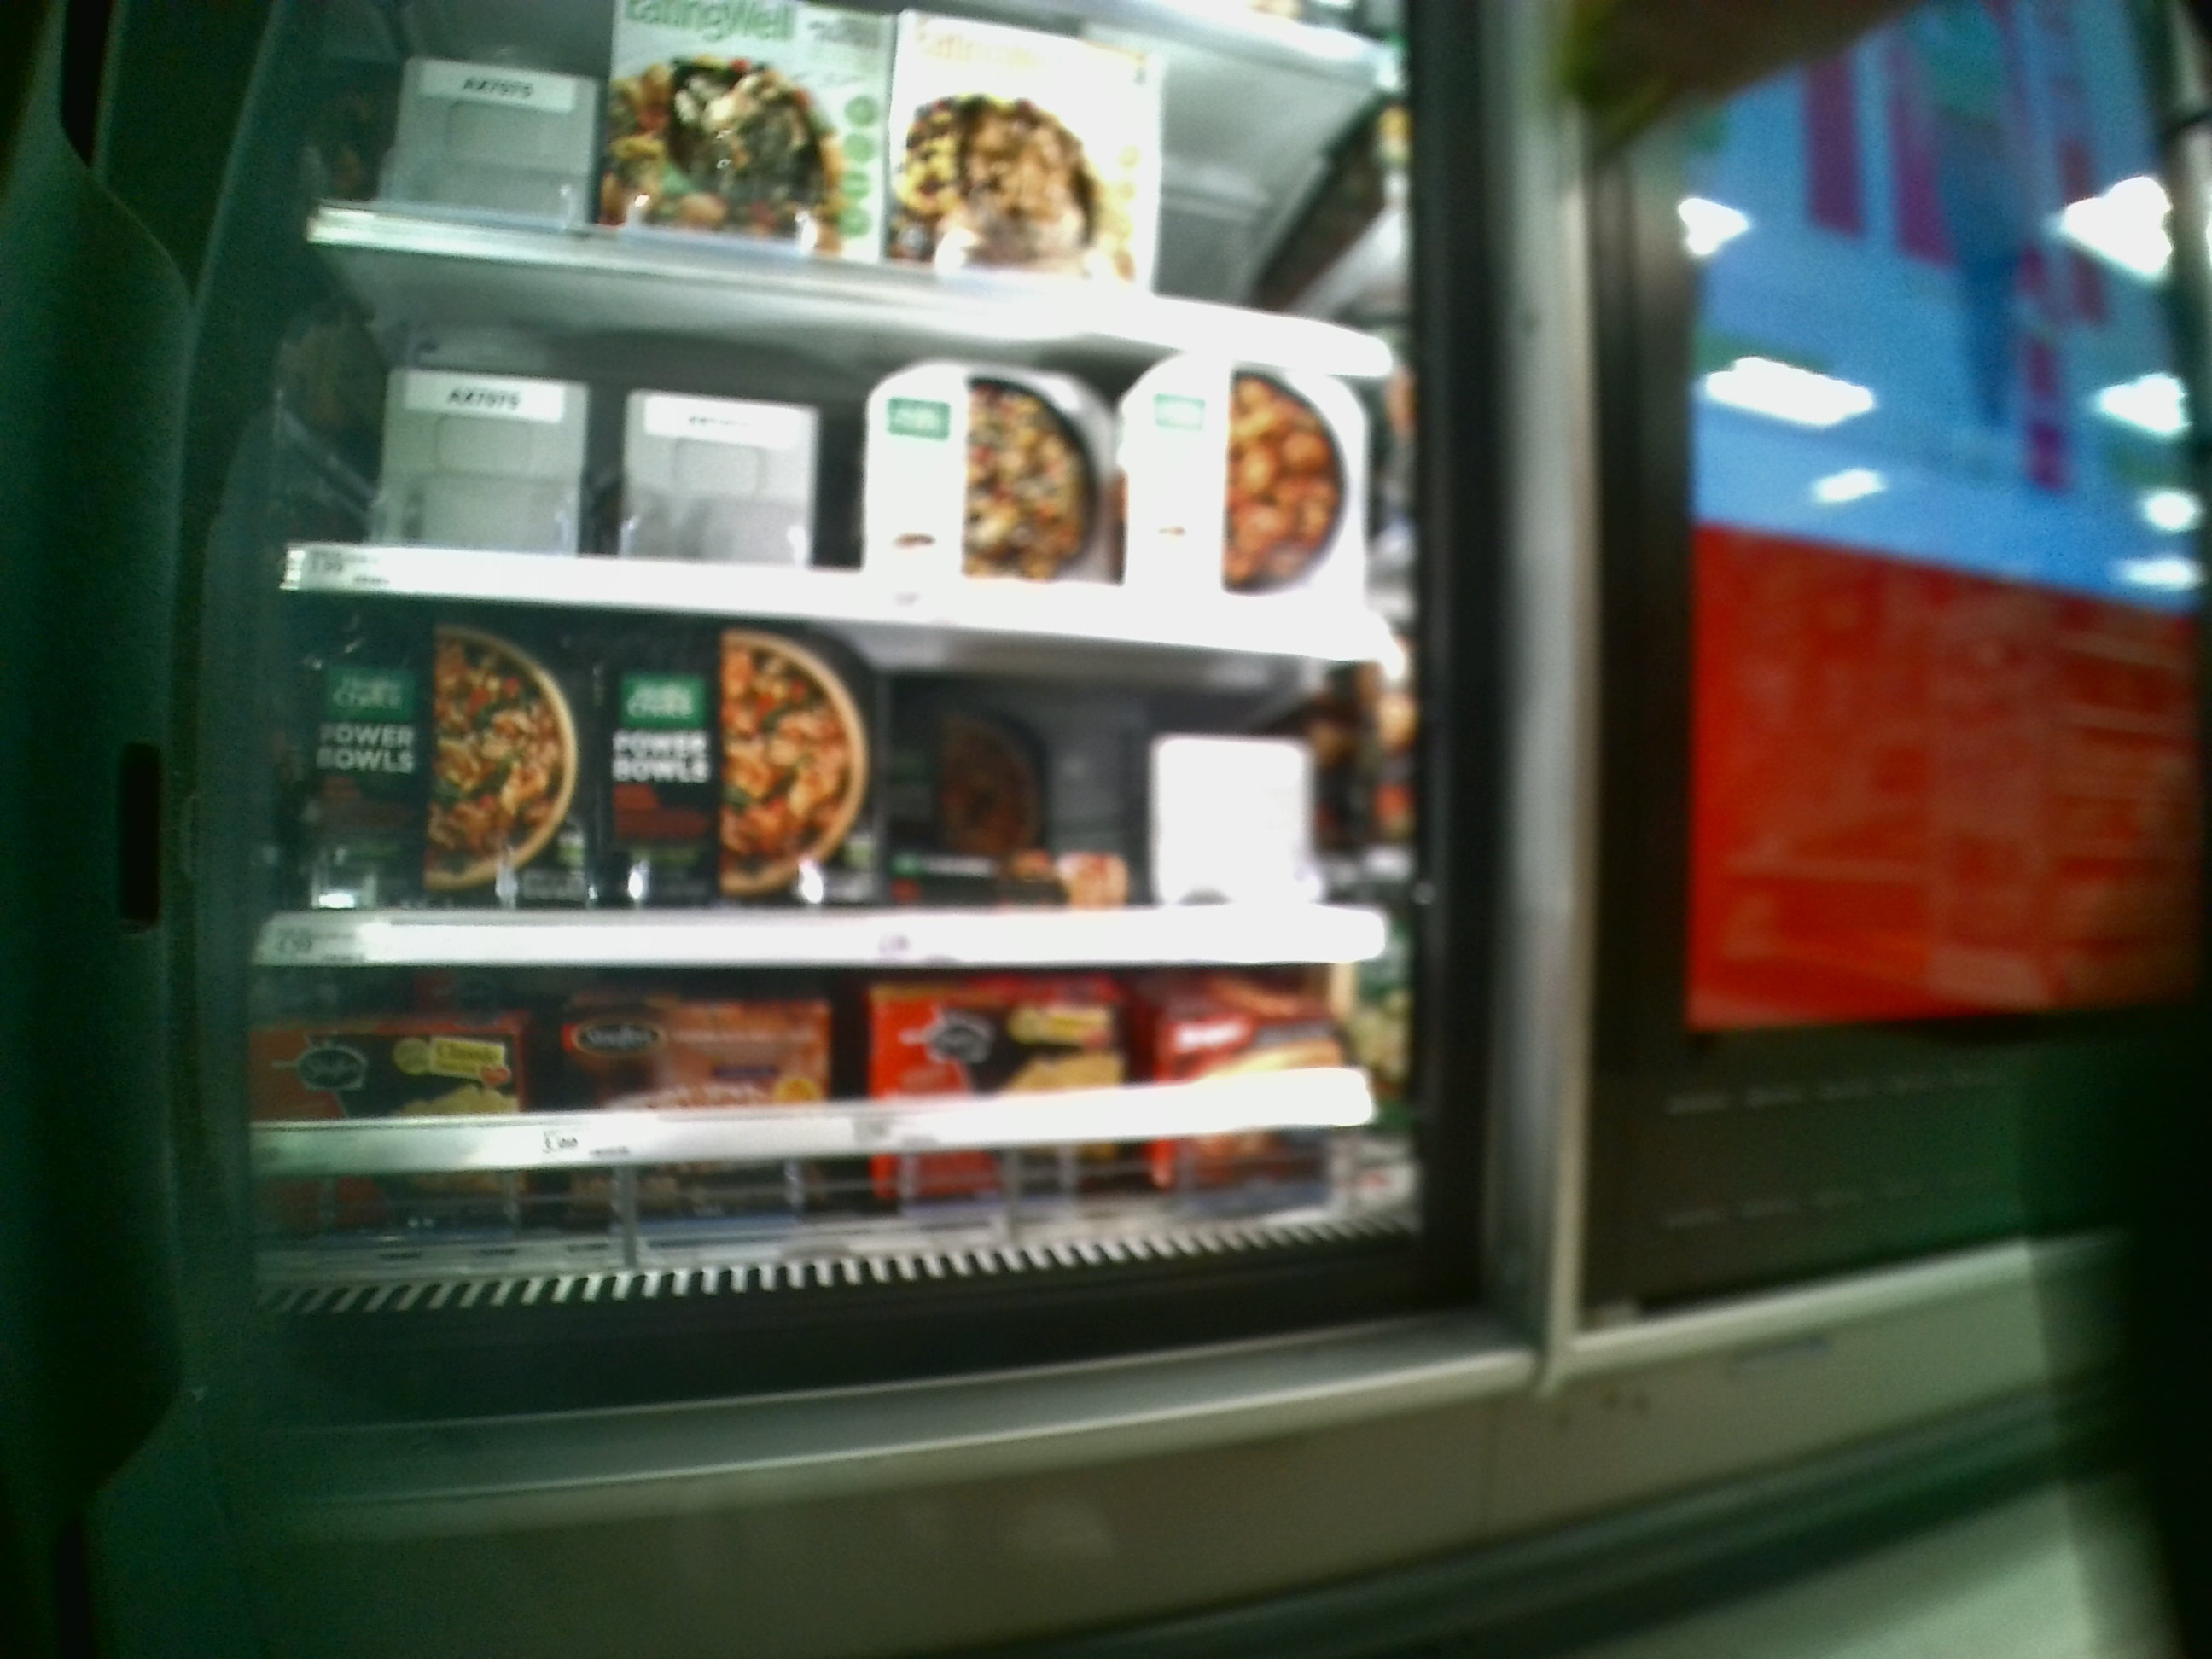shelf: (265, 591, 1406, 978), (246, 967, 1444, 1328)
